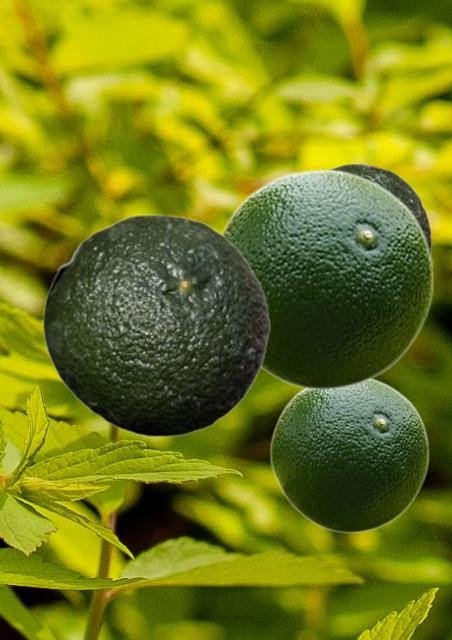calamansi: (42, 214, 270, 436), (220, 168, 434, 389), (269, 378, 429, 532), (327, 163, 431, 250)
